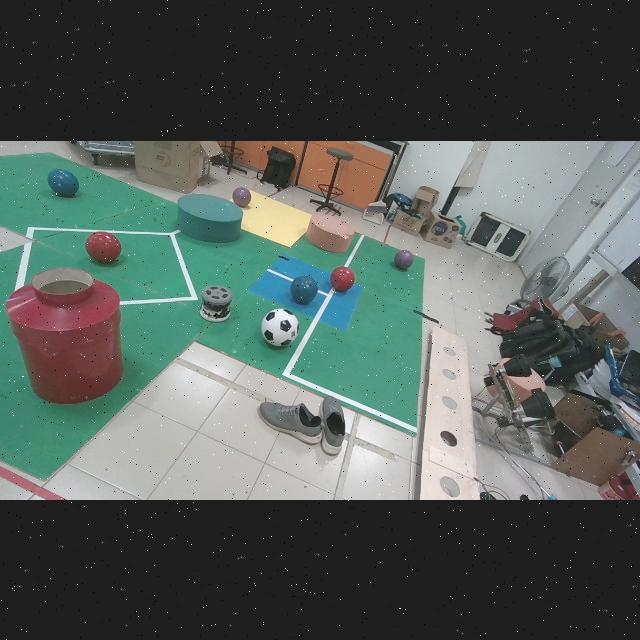B: (47, 168, 79, 196), (290, 275, 318, 303)
P: (232, 187, 252, 206), (394, 249, 414, 268)
R: (86, 230, 121, 262), (329, 266, 355, 291)
